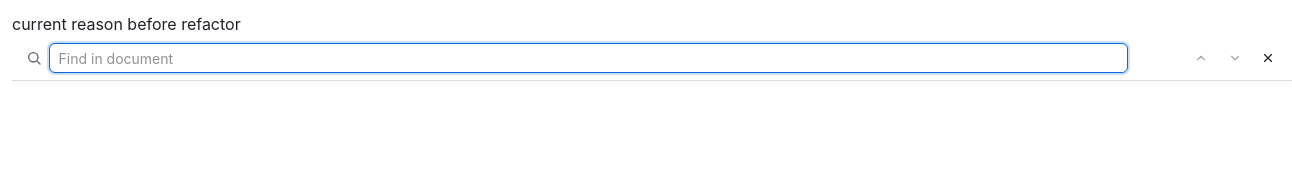
Scenario: SearchBar › does not leave partial highlights from an earlier shorter query
Type "re" into the field with test id "search-input". click: (588, 58)
box: [49,43,1128,73]
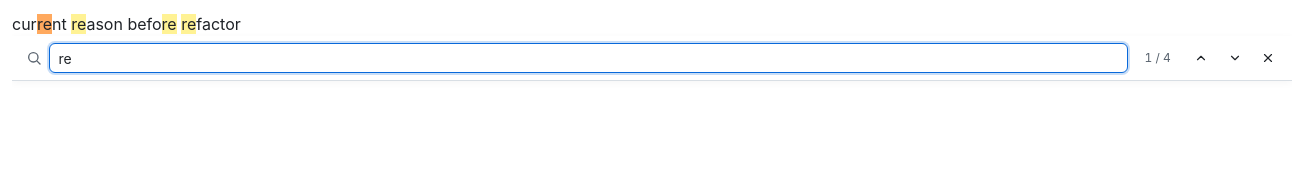
Result: the number of elements with class "search-highlight" is 4 at [37,14,52,34]; [71,14,86,34]; [162,14,177,34]; [181,14,196,34]
Type "factor" into the field with test id "search-input". click: (588, 58)
box: [49,43,1128,73]
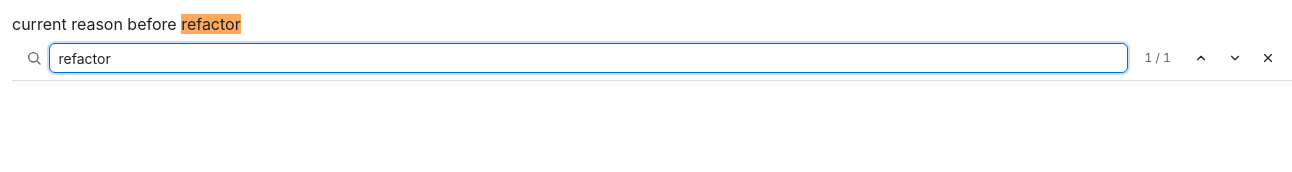
Expected: the text with class "search-highlight" reads "refactor", [181,14,241,34]
Result: the text "1 / 1" is shown at [1144,50,1171,65]
